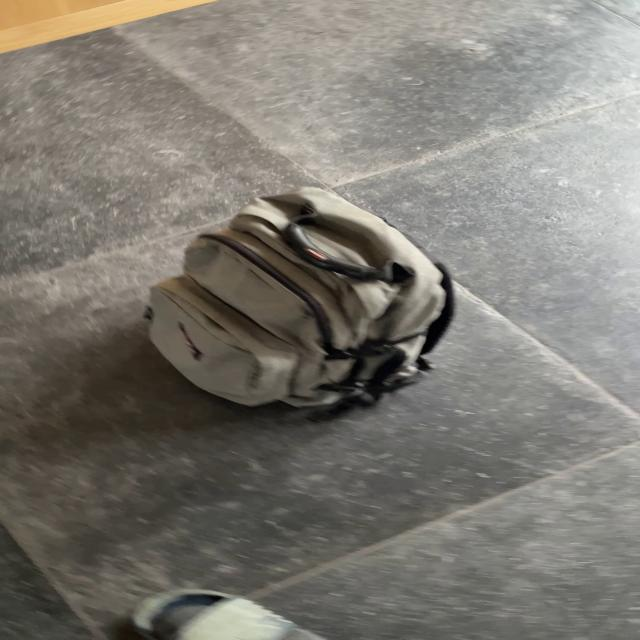backpack: (134, 184, 463, 415)
